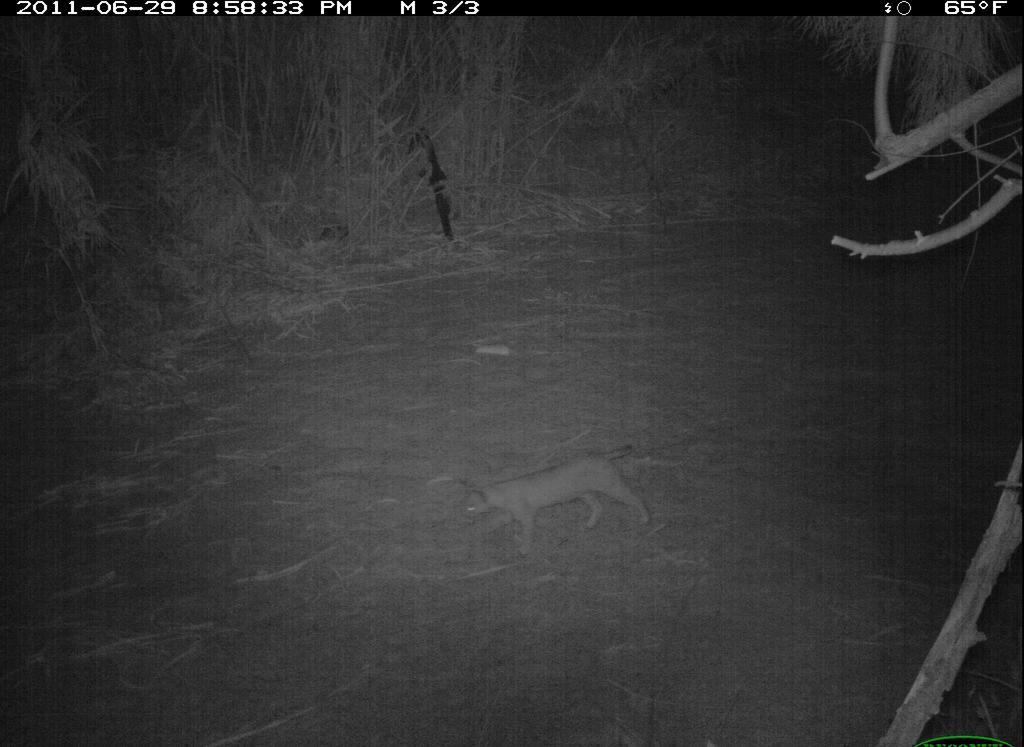bobcat: (449, 429, 679, 561)
